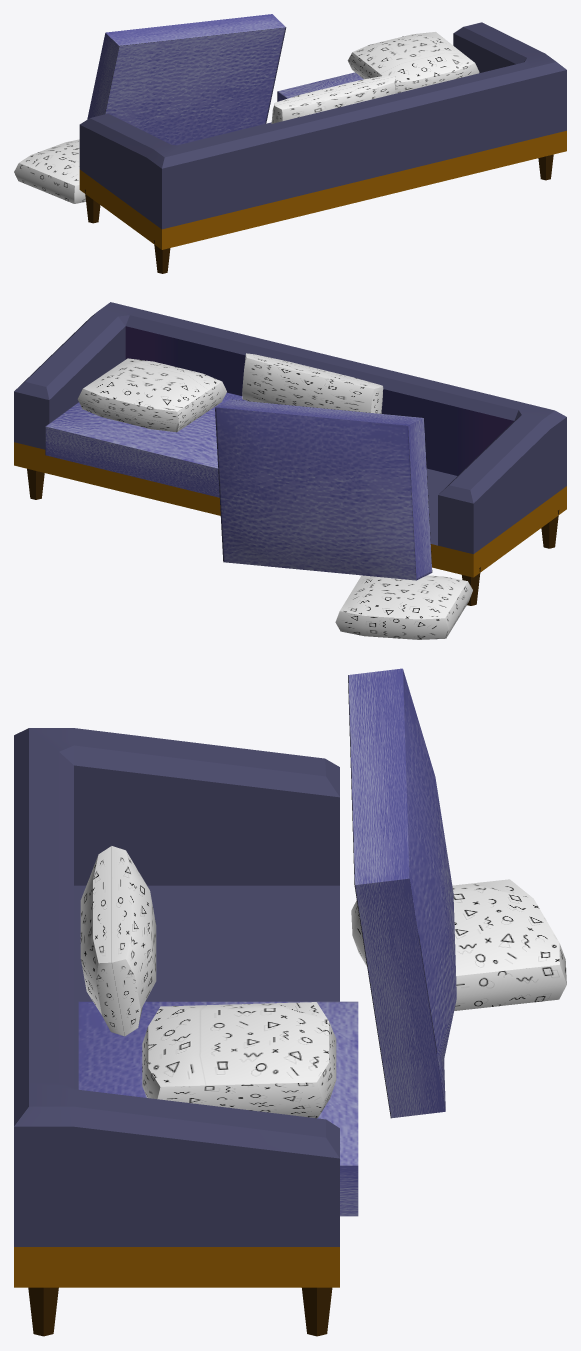
File: Sofa_Broke.fbx
The picture shows the model from 3 angles, top to bottom: view 1: azimuth 30°, elevation 25°; view 2: azimuth 150°, elevation 25°; view 3: azimuth 270°, elevation 25°; orthographic projection. The views are drawn at different scales.
Parts seen in each view (by area): view 1: pCube29, pCube33, pCube39, pCube37, pCube38, pCube31, pCylinder20; view 2: pCube29, pCube33, pCube31, pCube39, pCube37, pCube38, pCylinder18; view 3: pCube29, pCube33, pCube39, pCube37, pCube38, pCube31, pCylinder21, pCylinder18.
Boxes of the visible parts, left/top/right/bottom form: pCube29: left=79, top=22, right=566, bottom=249; pCube33: left=87, top=14, right=286, bottom=145; pCube39: left=347, top=32, right=479, bottom=93; pCube37: left=14, top=139, right=85, bottom=203; pCube38: left=271, top=75, right=395, bottom=123; pCube31: left=277, top=72, right=479, bottom=101; pCylinder20: left=153, top=239, right=170, bottom=273; pCube29: left=14, top=302, right=566, bottom=577; pCube33: left=215, top=399, right=432, bottom=580; pCube31: left=45, top=392, right=247, bottom=497; pCube39: left=77, top=358, right=226, bottom=432; pCube37: left=335, top=575, right=472, bottom=639; pCube38: left=242, top=353, right=383, bottom=413; pCylinder18: left=27, top=468, right=44, bottom=499; pCube29: left=14, top=728, right=339, bottom=1287; pCube33: left=348, top=668, right=456, bottom=1118; pCube39: left=142, top=1002, right=336, bottom=1118; pCube37: left=351, top=879, right=566, bottom=1010; pCube38: left=80, top=846, right=156, bottom=1036; pCube31: left=78, top=1001, right=358, bottom=1216; pCylinder21: left=28, top=1287, right=58, bottom=1336; pCylinder18: left=302, top=1287, right=332, bottom=1336.
Bounding box in the file's own units: 24.1 × 8.86 × 13.66.
Materials: 5 (2 with a texture image).
